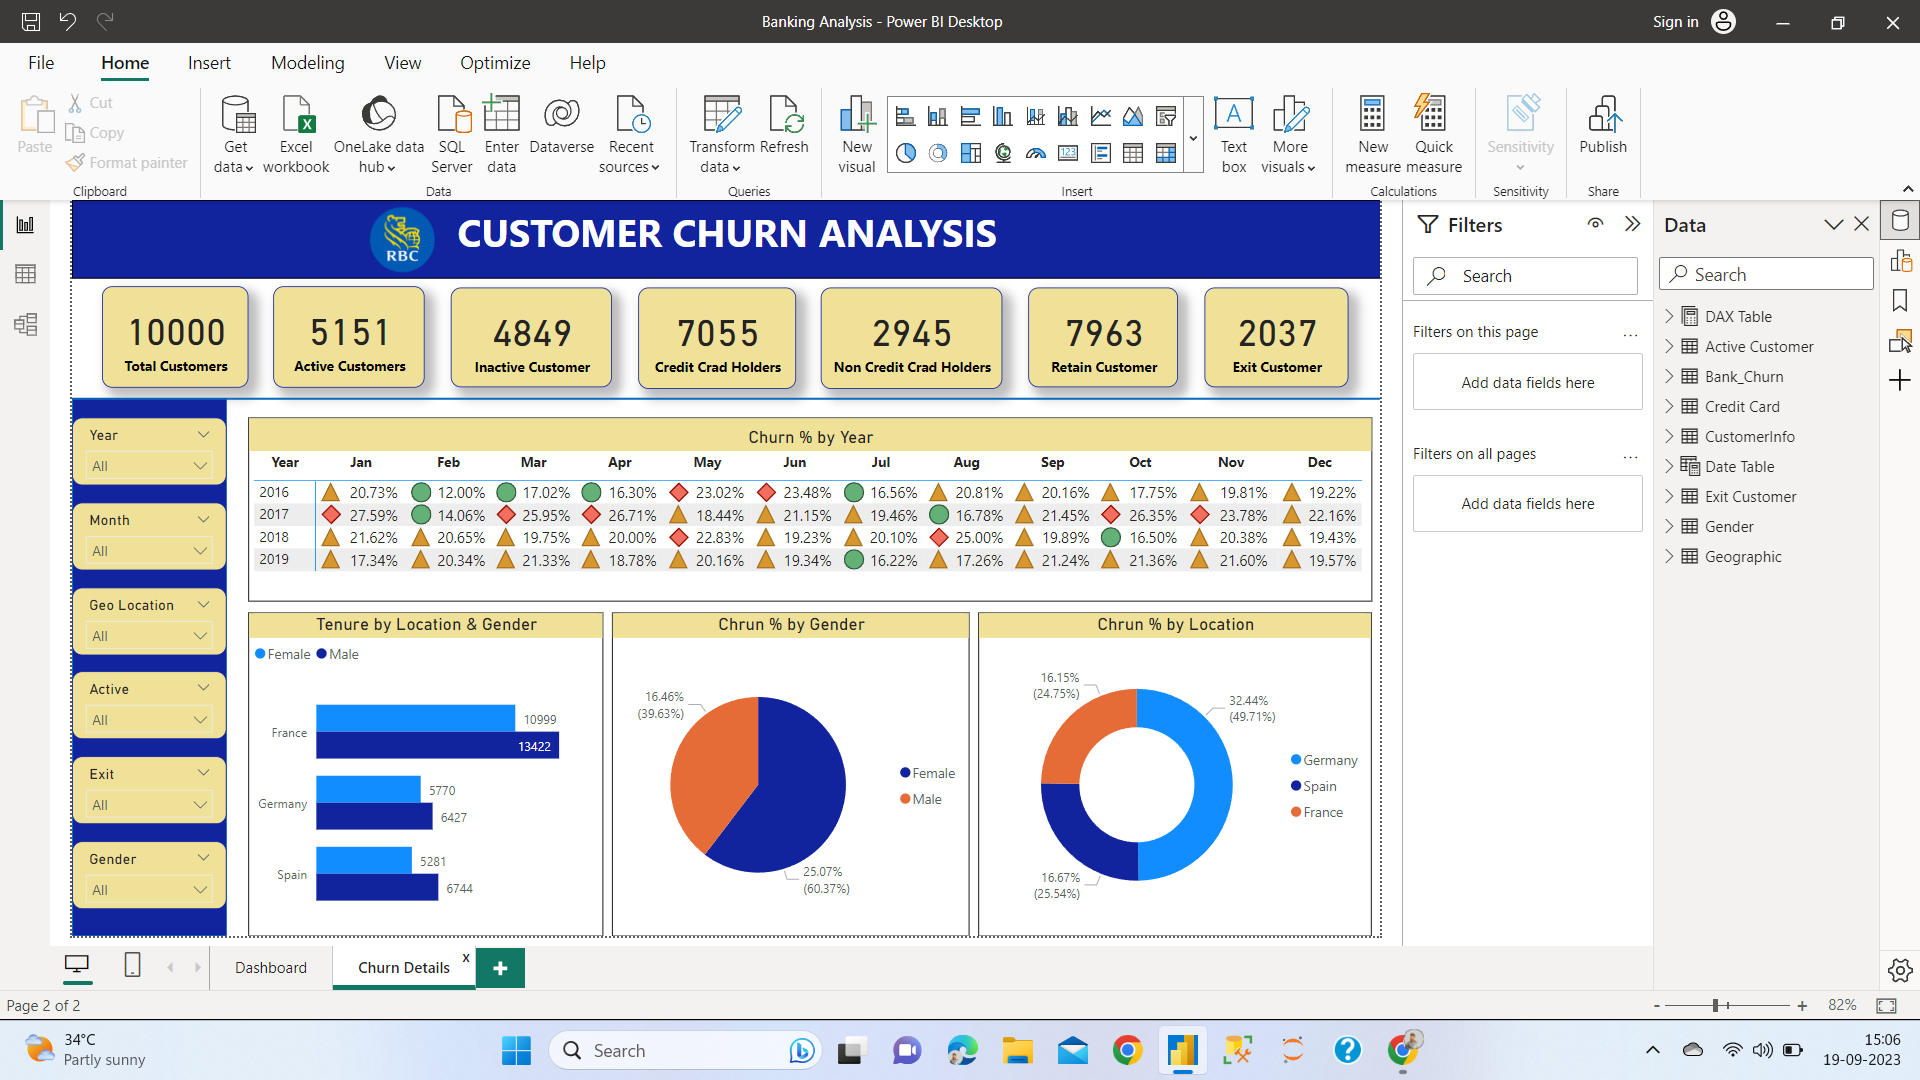

What the dashboard file says about the page in this screenshot:
{"tool":"powerbi","page":{"name":"Churn Details","canvas":[1280,720],"ordinal":1},"visuals":[{"type":"card","fields":{"Values":["DAX Table.Count of Customers"]},"box":[29.1,84.1,143,99],"z":0},{"type":"card","fields":{"Values":["DAX Table.Active Customers"]},"box":[197.4,84.1,147.9,99],"z":1000},{"type":"card","fields":{"Values":["DAX Table.Inactive Customer"]},"box":[370.6,85.3,157.7,97.8],"z":2000},{"type":"card","fields":{"Values":["DAX Table.Credit Crad Holders"]},"box":[553.5,85.3,154,99],"z":3000},{"type":"card","fields":{"Values":["DAX Table.Non Credit Crad Holders"]},"box":[732.8,85.3,177.2,99],"z":4000},{"type":"card","fields":{"Values":["DAX Table.Exit Customer"]},"box":[1107.3,85.3,140.6,97.8],"z":5000},{"type":"card","fields":{"Values":["DAX Table.Retain Customer"]},"box":[935.3,85.3,146.7,97.8],"z":6000},{"type":"textbox","box":[0,0,1279.9,77],"z":7000},{"type":"image","box":[260.4,0,124.7,77],"z":8000},{"type":"shape","box":[0,121,1279.9,146.7],"z":9000},{"type":"shape","box":[0,194.4,151.6,525.6],"z":10000},{"type":"slicer","fields":{"Values":["Date Table.Year"]},"box":[0,212.7,151.6,66],"z":11000},{"type":"slicer","fields":{"Values":["Date Table.Month Name"]},"box":[0,295.6,151.6,66],"z":12000},{"type":"slicer","fields":{"Values":["Geographic.GeographyLocation"]},"box":[0,378.5,151.6,66],"z":13000},{"type":"slicer","fields":{"Values":["Active Customer.ActiveCategory"]},"box":[0,461.3,151.6,66],"z":14000},{"type":"slicer","fields":{"Values":["Exit Customer.ExitCategory"]},"box":[0,544.2,151.6,66],"z":15000},{"type":"slicer","fields":{"Values":["Gender.GenderCategory"]},"box":[0,627.1,151.6,66],"z":16000},{"type":"pivotTable","title":"Churn % by Year","fields":{"Rows":["Date Table.Year"],"Columns":["Date Table.Month Name"],"Values":["DAX Table.Chrun %"]},"box":[172.4,212.7,1098.9,179.7],"z":17000},{"type":"clusteredBarChart","title":"Tenure by Location & Gender","fields":{"Series":["Gender.GenderCategory"],"Category":["Geographic.GeographyLocation"],"Y":["Sum(Bank_Churn.Tenure)"]},"box":[172.4,403.4,347.2,316.6],"z":18000},{"type":"pieChart","title":"Chrun % by Gender","fields":{"Category":["Gender.GenderCategory"],"Y":["DAX Table.Chrun %"]},"box":[528.1,403.4,349.6,316.6],"z":18001},{"type":"donutChart","title":"Chrun % by Location","fields":{"Y":["DAX Table.Chrun %"],"Category":["Geographic.GeographyLocation"]},"box":[886.2,403.4,385.1,316.6],"z":18002}]}

Visuals, with their boxes on the page's 1280x720 design canvas (x1, y1, x2, y2). These are canvas units, not pixel positions in the 1920x1080 screenshot, which may show the page scaled, cropped or inside an application window:
card - DAX Table.Count of Customers: l=29, t=84, r=172, b=183
card - DAX Table.Active Customers: l=197, t=84, r=345, b=183
card - DAX Table.Inactive Customer: l=371, t=85, r=528, b=183
card - DAX Table.Credit Crad Holders: l=554, t=85, r=708, b=184
card - DAX Table.Non Credit Crad Holders: l=733, t=85, r=910, b=184
card - DAX Table.Exit Customer: l=1107, t=85, r=1248, b=183
card - DAX Table.Retain Customer: l=935, t=85, r=1082, b=183
textbox: l=0, t=0, r=1280, b=77
image: l=260, t=0, r=385, b=77
shape: l=0, t=121, r=1280, b=268
shape: l=0, t=194, r=152, b=720
slicer - Date Table.Year: l=0, t=213, r=152, b=279
slicer - Date Table.Month Name: l=0, t=296, r=152, b=362
slicer - Geographic.GeographyLocation: l=0, t=378, r=152, b=444
slicer - Active Customer.ActiveCategory: l=0, t=461, r=152, b=527
slicer - Exit Customer.ExitCategory: l=0, t=544, r=152, b=610
slicer - Gender.GenderCategory: l=0, t=627, r=152, b=693
"Churn % by Year" pivotTable: l=172, t=213, r=1271, b=392
"Tenure by Location & Gender" clusteredBarChart: l=172, t=403, r=520, b=720
"Chrun % by Gender" pieChart: l=528, t=403, r=878, b=720
"Chrun % by Location" donutChart: l=886, t=403, r=1271, b=720
